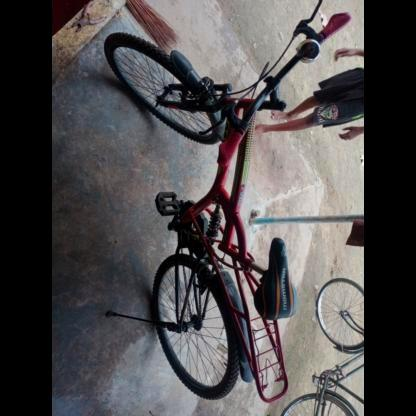Bicycle: (48, 3, 353, 402), (296, 272, 363, 416)
